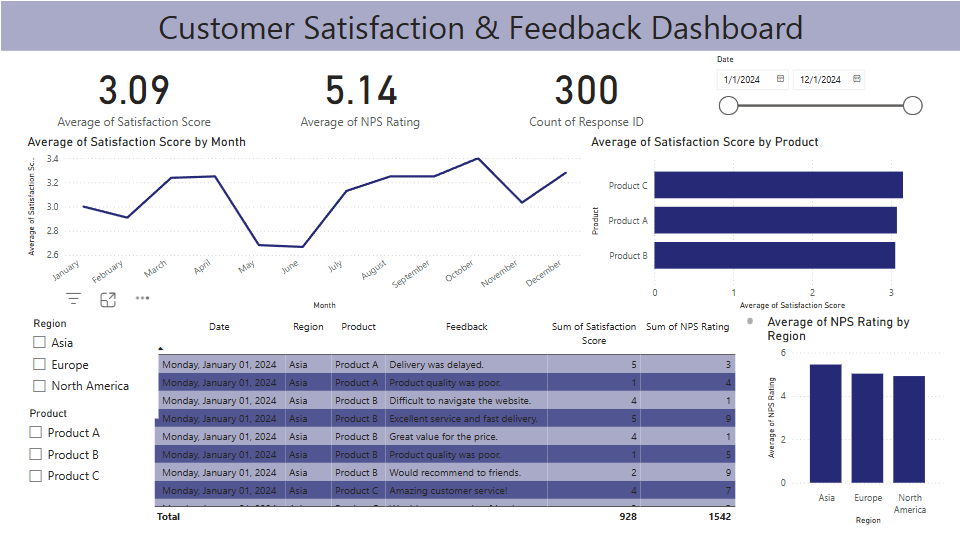

The page's visual inventory and layout, read from the dashboard file:
{"tool":"powerbi","page":{"name":"Page 1","canvas":[1280,720],"ordinal":0},"visuals":[{"type":"card","fields":{"Values":["Avg(Customer_Feedback_Analysis.Satisfaction Score)"]},"box":[30,66.7,295,110],"z":0},{"type":"card","fields":{"Values":["Avg(Customer_Feedback_Analysis.NPS Rating)"]},"box":[331.7,66.7,295,110],"z":1},{"type":"card","fields":{"Values":["CountNonNull(Customer_Feedback_Analysis.Response ID)"]},"box":[633.3,66.7,295,110],"z":2},{"type":"barChart","fields":{"Category":["Customer_Feedback_Analysis.Product"],"Y":["Avg(Customer_Feedback_Analysis.Satisfaction Score)"]},"box":[781.7,176.7,466.7,240],"z":3},{"type":"columnChart","fields":{"Category":["Customer_Feedback_Analysis.Region"],"Y":["Avg(Customer_Feedback_Analysis.NPS Rating)"]},"box":[1016.7,416.7,245,286.7],"z":4},{"type":"lineChart","fields":{"Category":["Customer_Feedback_Analysis.Date.Variation.Date Hierarchy.Month"],"Y":["Avg(Customer_Feedback_Analysis.Satisfaction Score)"]},"box":[30,176.7,751.7,240],"z":5},{"type":"tableEx","fields":{"Values":["Customer_Feedback_Analysis.Date","Customer_Feedback_Analysis.Region","Customer_Feedback_Analysis.Product","Customer_Feedback_Analysis.Feedback","Sum(Customer_Feedback_Analysis.Satisfaction Score)","Sum(Customer_Feedback_Analysis.NPS Rating)"]},"box":[196.7,416.7,811.7,286.7],"z":6},{"type":"slicer","fields":{"Values":["Customer_Feedback_Analysis.Region"]},"box":[30,416.7,180,140],"z":7},{"type":"slicer","fields":{"Values":["Customer_Feedback_Analysis.Product"]},"box":[25,536.7,180,140],"z":8},{"type":"slicer","fields":{"Values":["Customer_Feedback_Analysis.Date"]},"box":[941.7,66.7,295,110],"z":9},{"type":"textbox","box":[0,0,1280,66.7],"z":10}]}

Visuals, with their boxes in screenshot pixels (x1, y1, x2, y2), scaled from the page's 1280x720 canvas onto the 960x543 screenshot:
card - Avg(Customer_Feedback_Analysis.Satisfaction Score): select_region(22, 50, 244, 133)
card - Avg(Customer_Feedback_Analysis.NPS Rating): select_region(249, 50, 470, 133)
card - CountNonNull(Customer_Feedback_Analysis.Response ID): select_region(475, 50, 696, 133)
barChart - Customer_Feedback_Analysis.Product x Avg(Customer_Feedback_Analysis.Satisfaction Score): select_region(586, 133, 936, 314)
columnChart - Customer_Feedback_Analysis.Region x Avg(Customer_Feedback_Analysis.NPS Rating): select_region(763, 314, 946, 530)
lineChart - Customer_Feedback_Analysis.Date.Variation.Date Hierarchy.Month x Avg(Customer_Feedback_Analysis.Satisfaction Score): select_region(22, 133, 586, 314)
tableEx - Customer_Feedback_Analysis.Date x Customer_Feedback_Analysis.Region: select_region(148, 314, 756, 530)
slicer - Customer_Feedback_Analysis.Region: select_region(22, 314, 158, 420)
slicer - Customer_Feedback_Analysis.Product: select_region(19, 405, 154, 510)
slicer - Customer_Feedback_Analysis.Date: select_region(706, 50, 928, 133)
textbox: select_region(0, 0, 959, 50)
